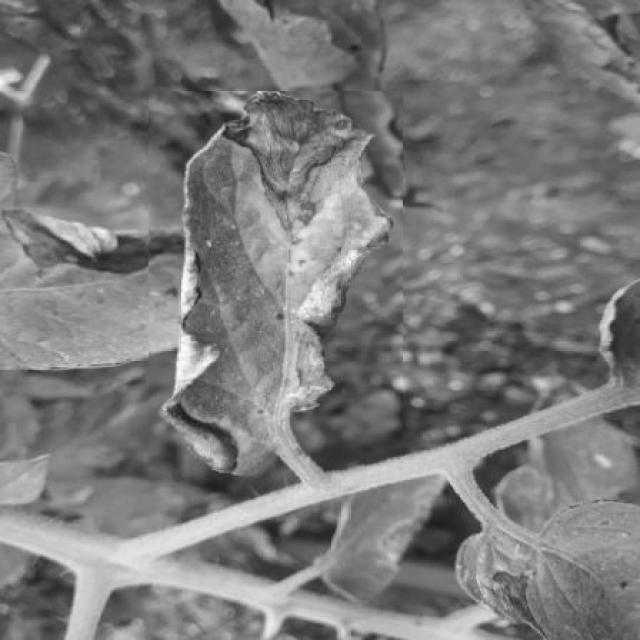Early Blight: (149, 91, 402, 479)
